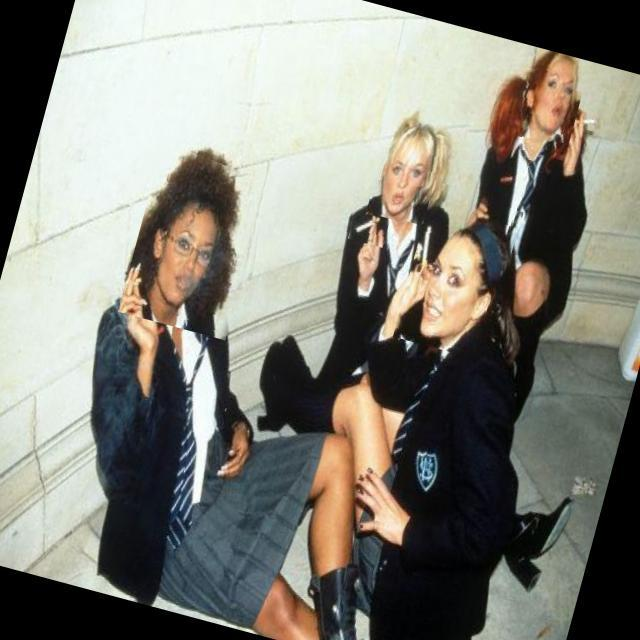cigarette: (409, 211, 445, 283), (344, 198, 392, 248), (112, 260, 162, 304), (566, 99, 618, 139)
